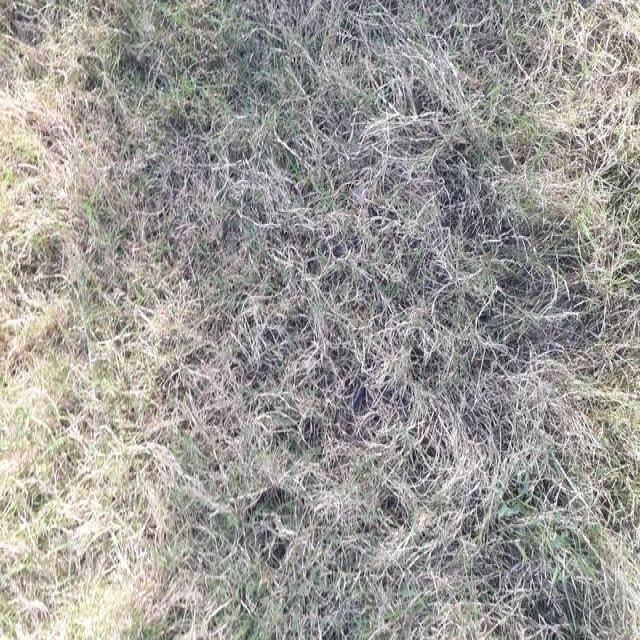weed: (0, 0, 631, 633)
